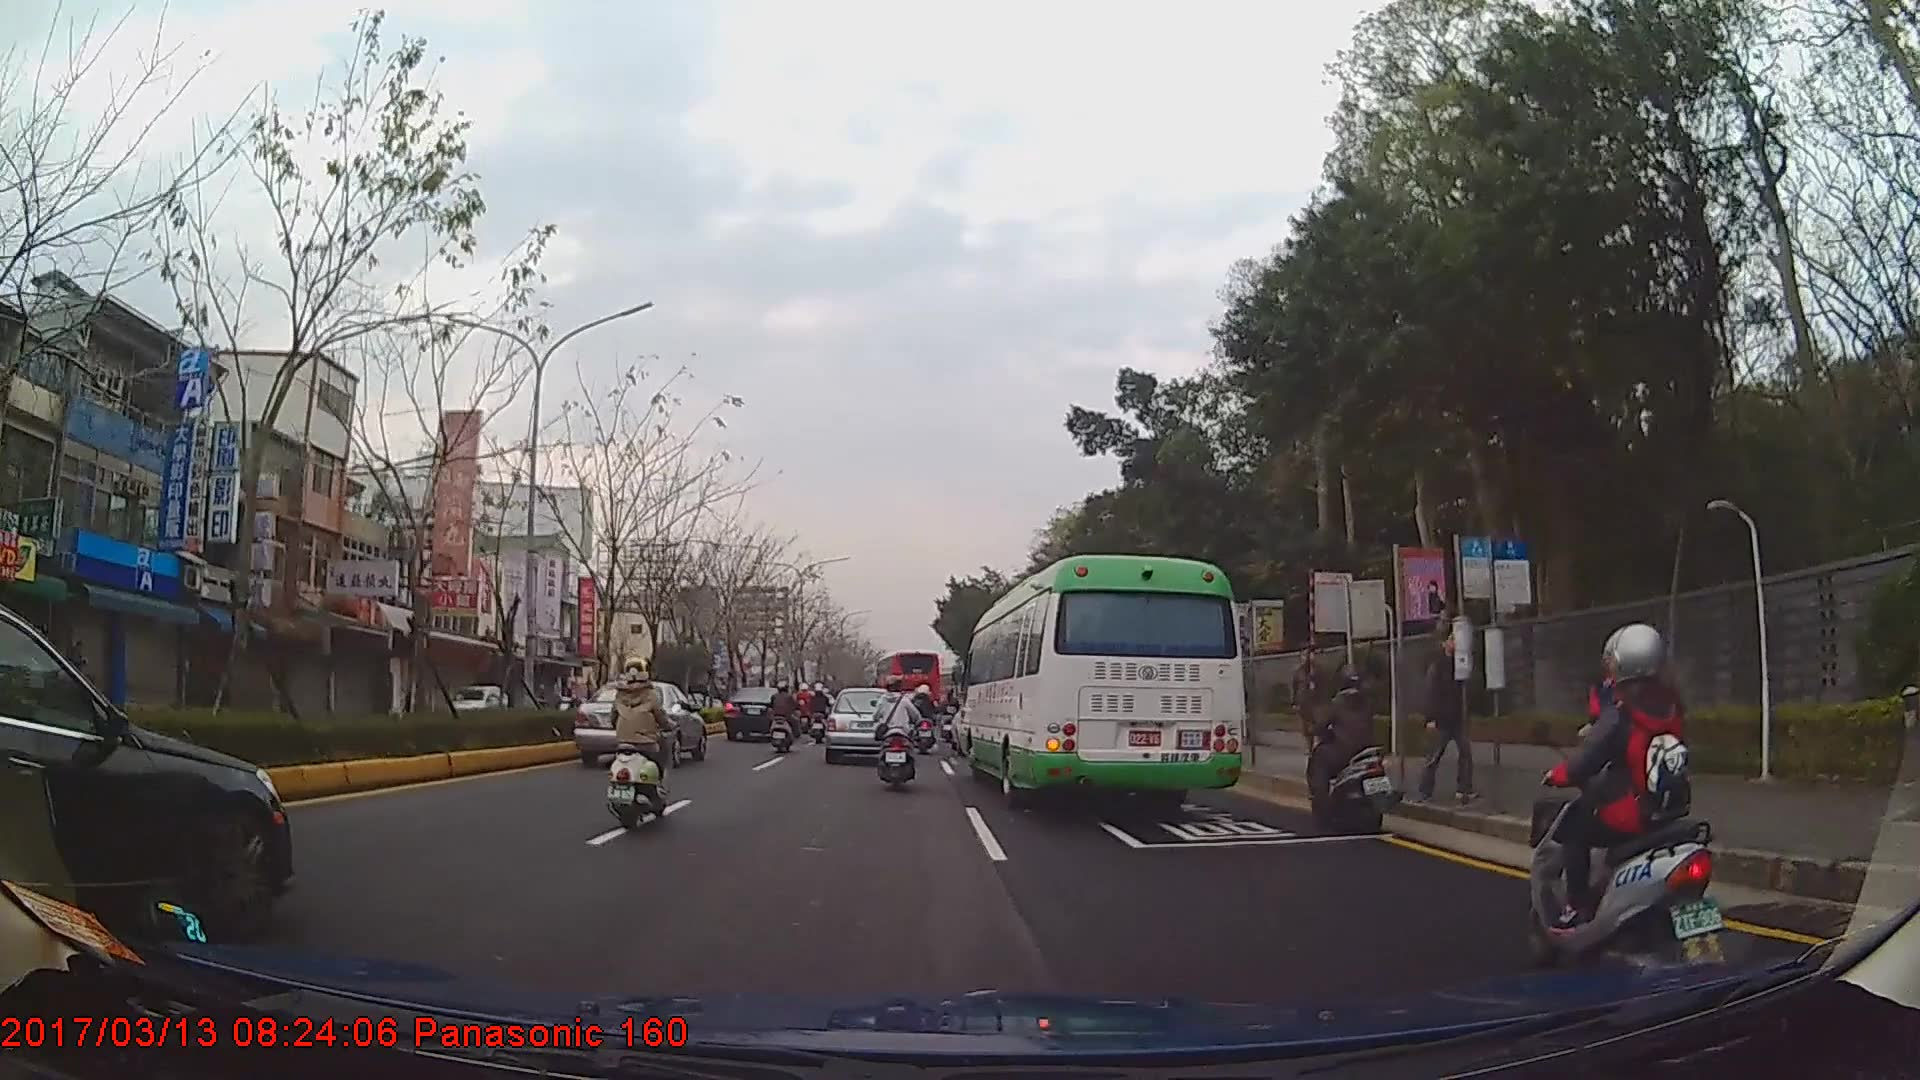pedestrian: (1414, 633, 1477, 806), (1285, 647, 1329, 759)
rider: (1529, 620, 1724, 957), (1298, 661, 1401, 841), (605, 655, 677, 836), (871, 677, 921, 791), (769, 679, 802, 755), (913, 683, 940, 737), (810, 684, 832, 743), (557, 682, 578, 712)
vehicle: (0, 600, 290, 956), (958, 553, 1243, 808), (574, 678, 708, 766), (824, 687, 904, 766), (873, 647, 942, 717), (723, 681, 797, 741), (435, 678, 518, 724)
